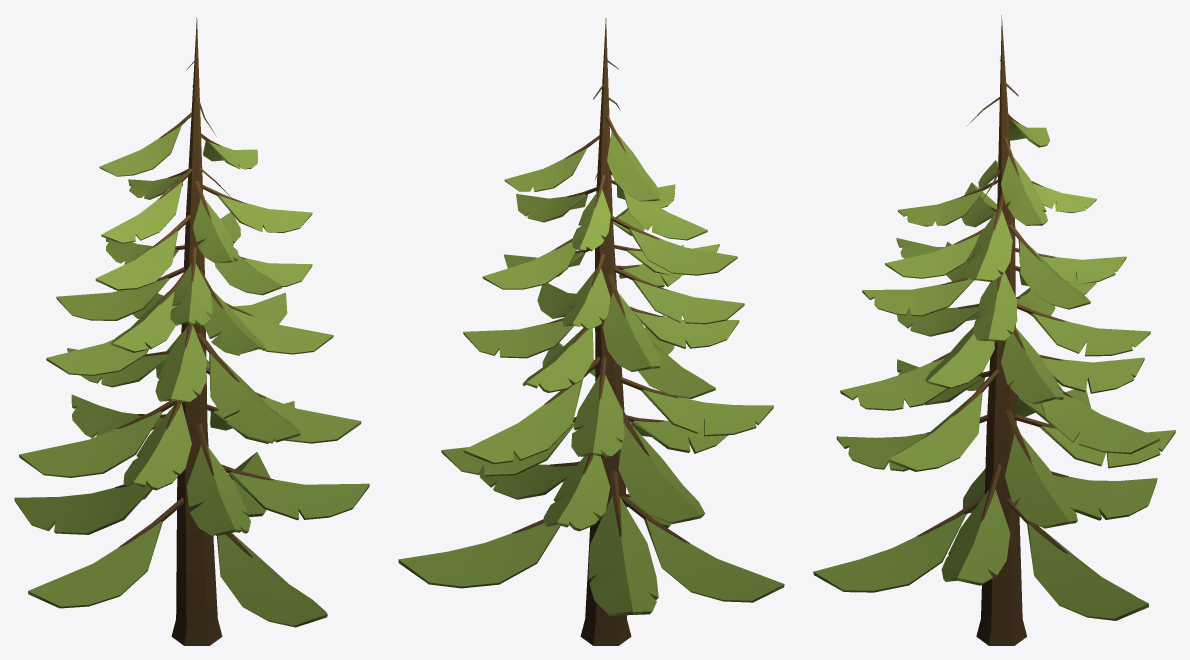
File: Spring_Tree_06.glb
3 renders of one model, left to right at view 1: azimuth 30°, elevation 25°; view 2: azimuth 150°, elevation 25°; view 3: azimuth 270°, elevation 25°, orthographic.
Visible parts, largest first — view 1: Spring_Tree_06_LOD0; view 2: Spring_Tree_06_LOD0; view 3: Spring_Tree_06_LOD0.
Part boxes in pixels (bbox=[...]): Spring_Tree_06_LOD0: bbox=[14, 17, 369, 645]; Spring_Tree_06_LOD0: bbox=[398, 18, 784, 645]; Spring_Tree_06_LOD0: bbox=[813, 15, 1175, 645].
Size of what is drawn, in the model's own units: 3.04 by 5.57 by 2.94.
1 material, 1 textured.
